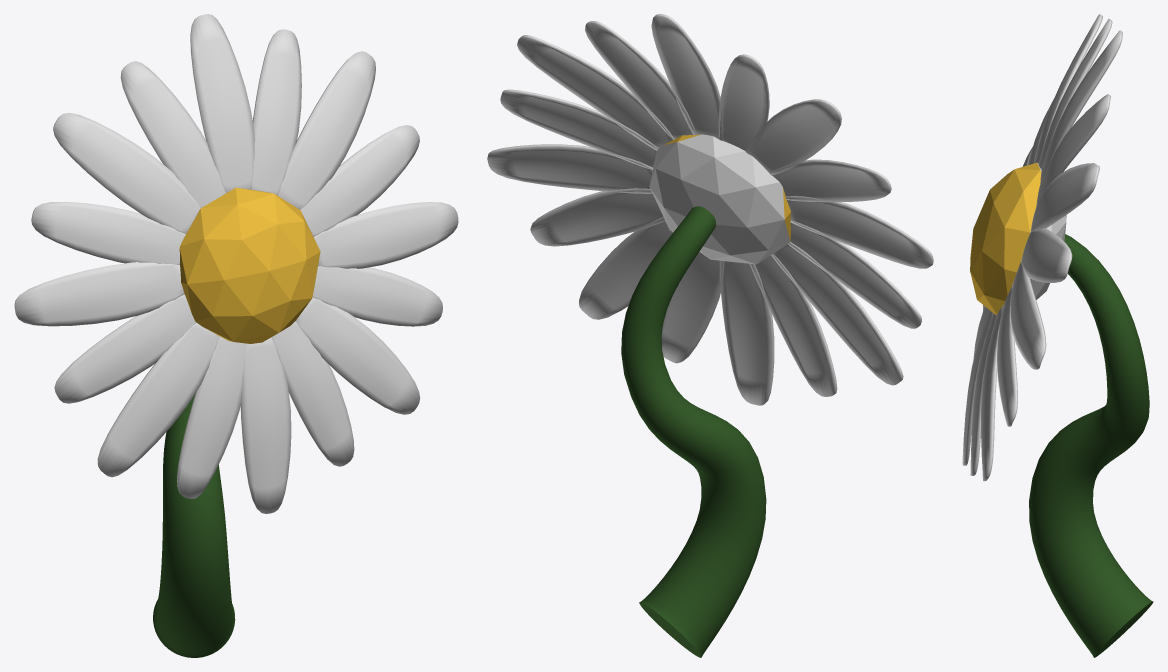
Rendered from Blume3.fbx.
The picture shows the model from 3 angles, left to right: view 1: azimuth 30°, elevation 25°; view 2: azimuth 150°, elevation 25°; view 3: azimuth 270°, elevation 25°; orthographic projection.
Visible parts, largest first — view 1: Plane.002, Plane.001, Icosphere, BezierCurve.004; view 2: Plane.002, Plane.001, BezierCurve.004, Icosphere; view 3: BezierCurve.004, Plane.002, Plane.001, Icosphere.
Part boxes in pixels (x1,y1,x2,y2): Plane.002: [14, 14, 458, 513]; Plane.001: [31, 29, 442, 498]; Icosphere: [179, 187, 320, 343]; BezierCurve.004: [153, 394, 235, 657]; Plane.002: [487, 14, 933, 405]; Plane.001: [500, 21, 921, 396]; BezierCurve.004: [621, 206, 766, 657]; Icosphere: [649, 134, 790, 264]; BezierCurve.004: [1029, 234, 1153, 657]; Plane.002: [962, 14, 1122, 481]; Plane.001: [970, 19, 1112, 475]; Icosphere: [970, 163, 1066, 314].
Size of the model in its own units: 190 by 260 by 71.45.
